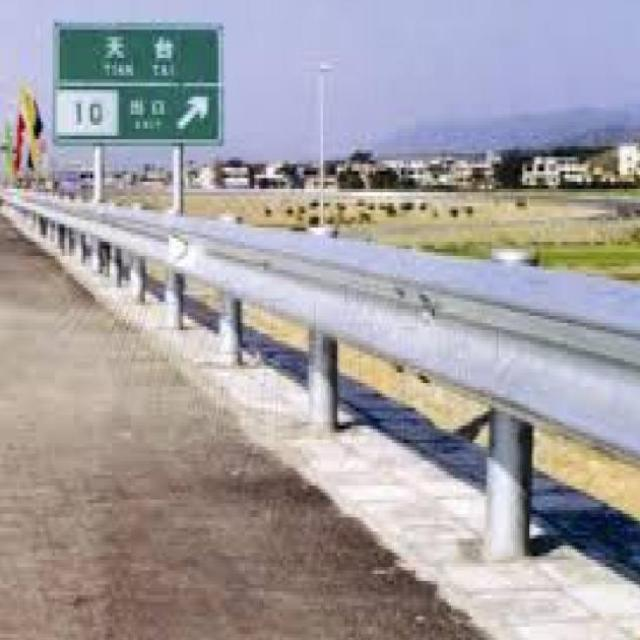Guard rail: (6, 196, 640, 457)
